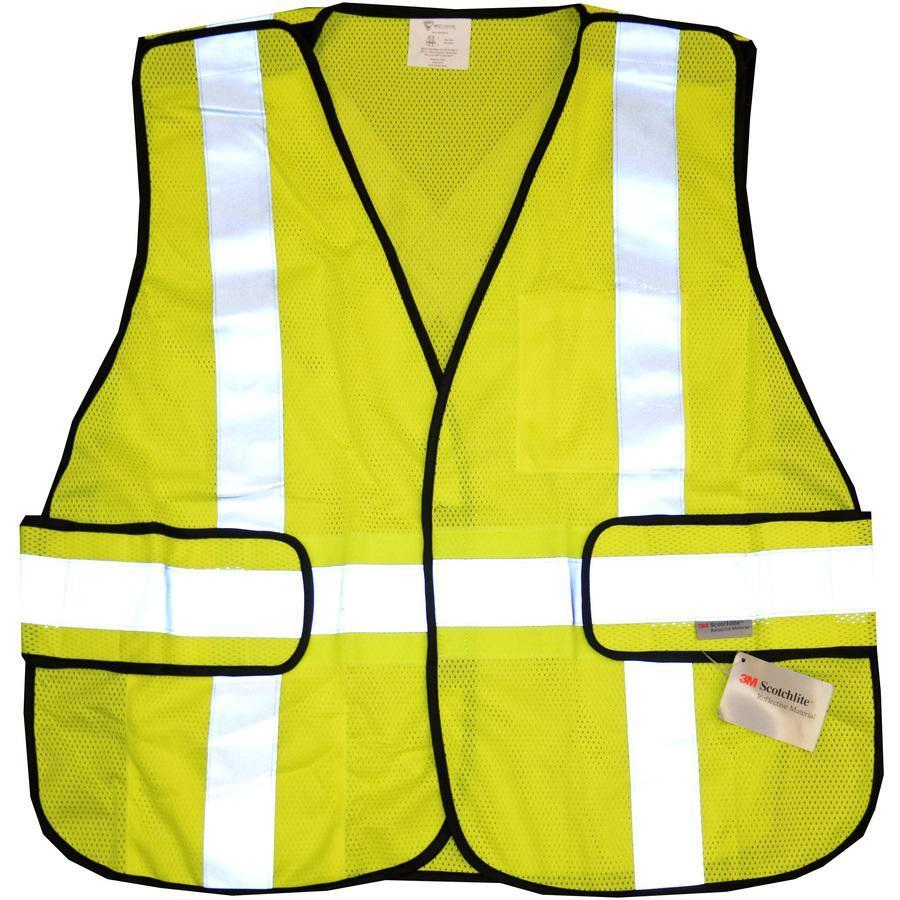vest: (11, 2, 888, 898)
